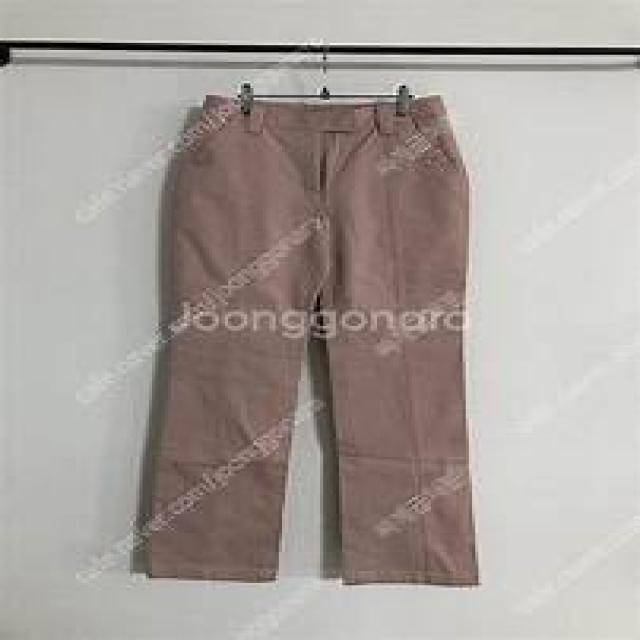long-pants: (138, 91, 480, 585)
